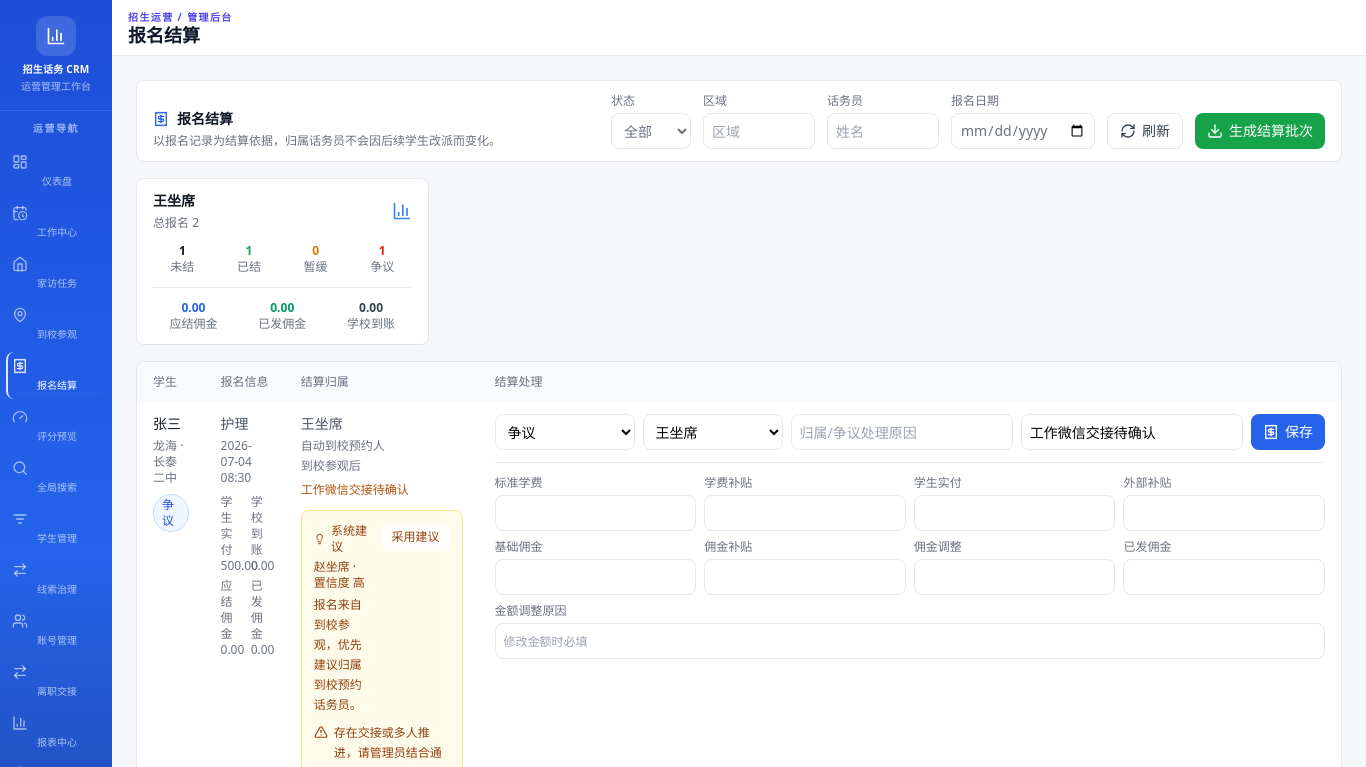
Scenario: Admissions workflow admin pages › generates a settlement batch export from current filters
Expected: the text "系统建议" is shown, [314,523,370,555]
Select "争议" in the dropdown labelled "状态": (651, 131) [611,113,691,149]
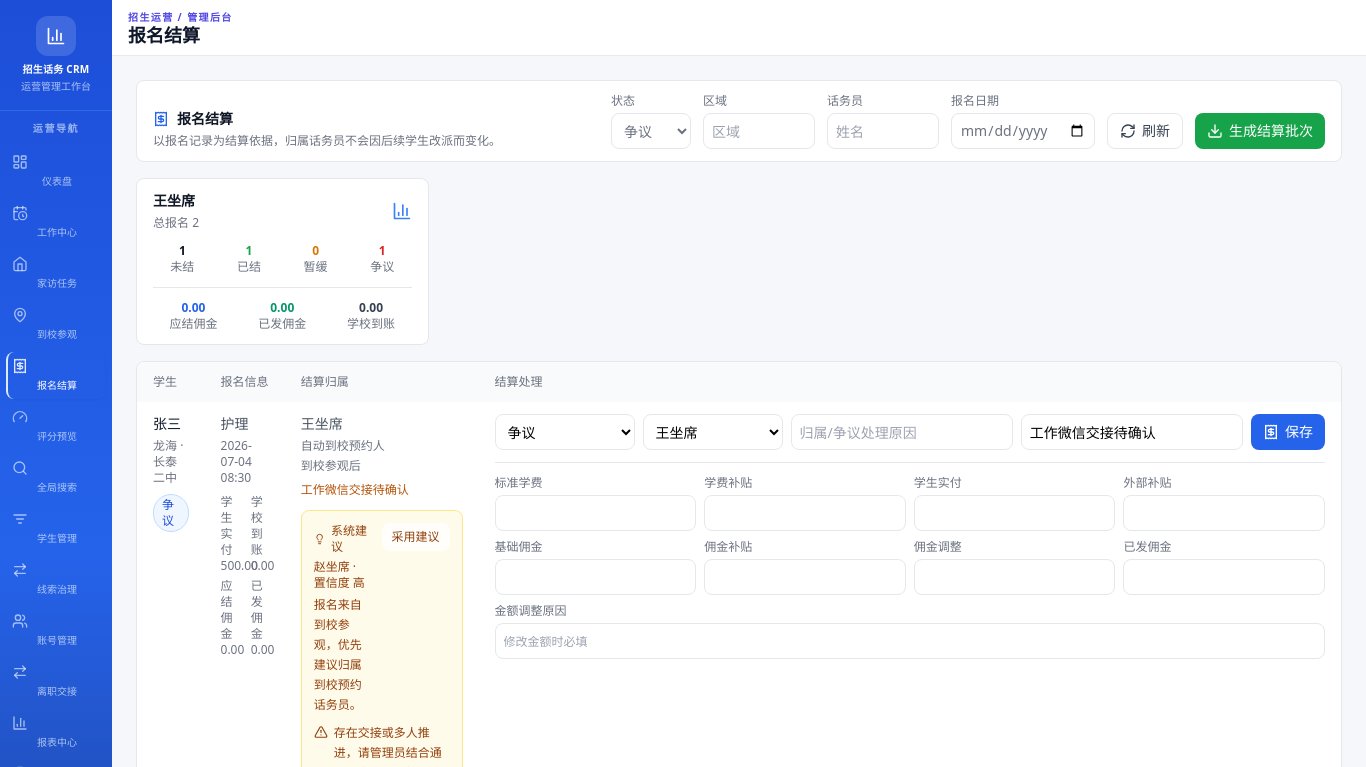
Click the button "生成结算批次": click(1260, 131) [1195,113,1325,149]
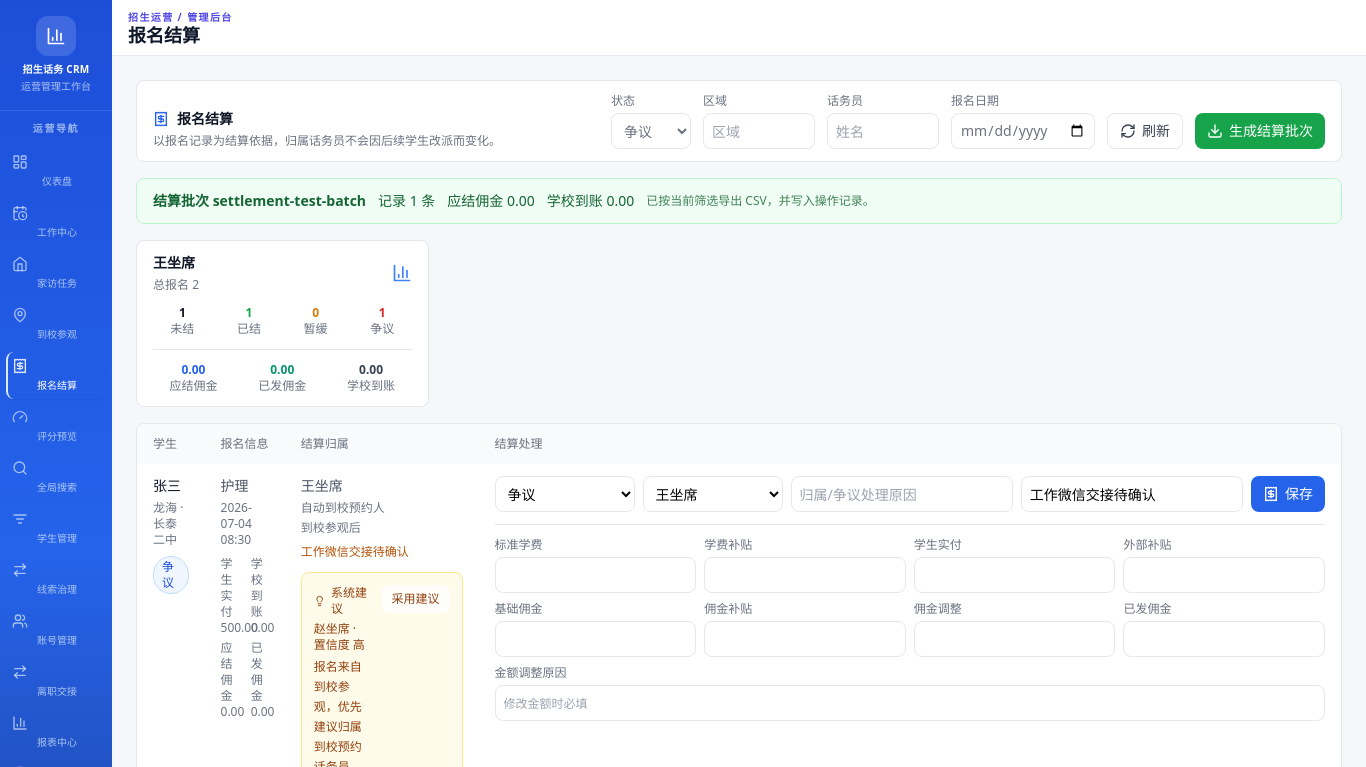
Expected: the text "结算批次 settlement-test-batch" is shown, [153,191,366,211]
